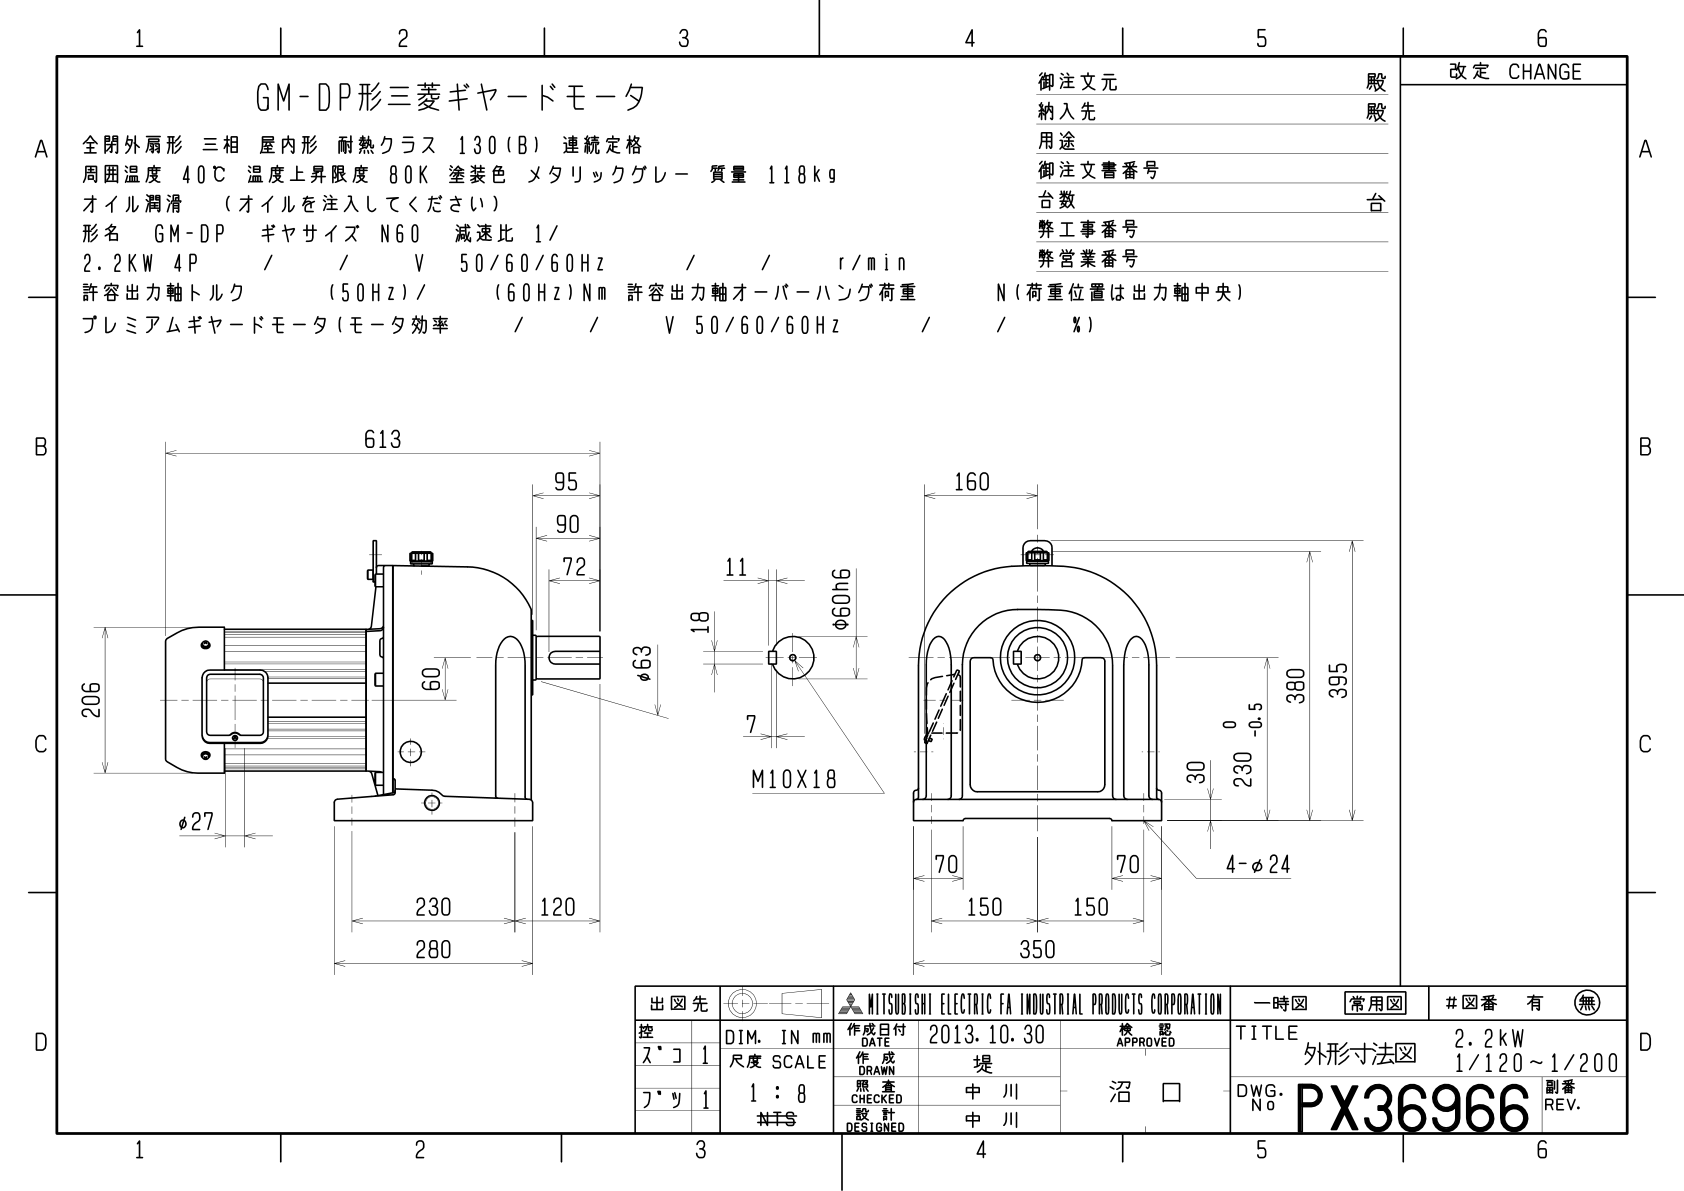GM_D_屋内＿三相_脚: (1, 1, 1672, 1179)
